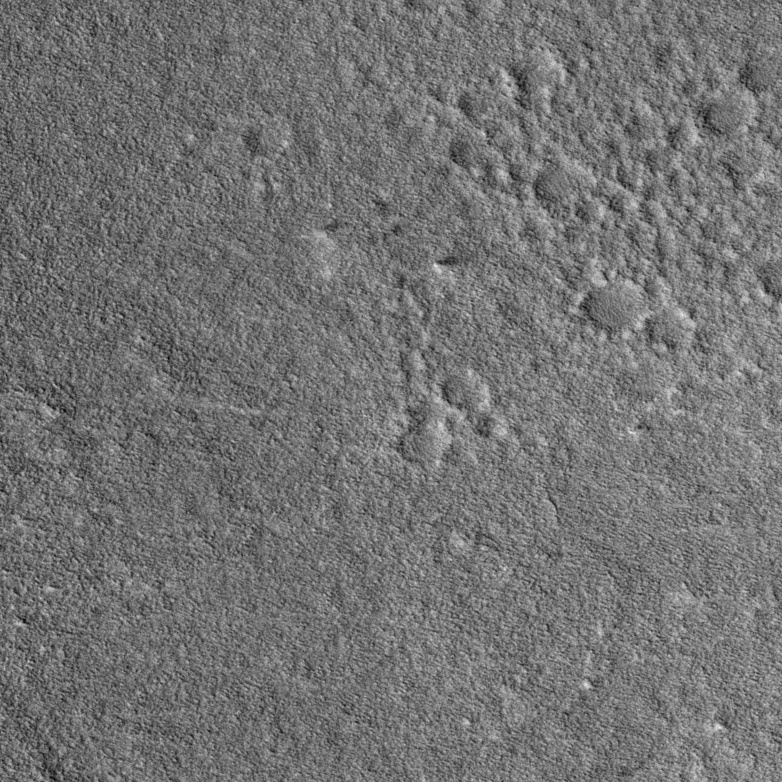dust_devil: (431, 254, 460, 276)
